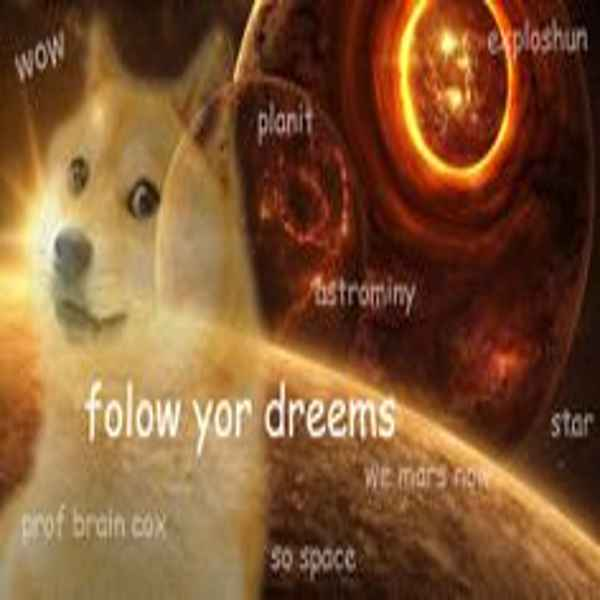doge: (36, 13, 243, 388)
